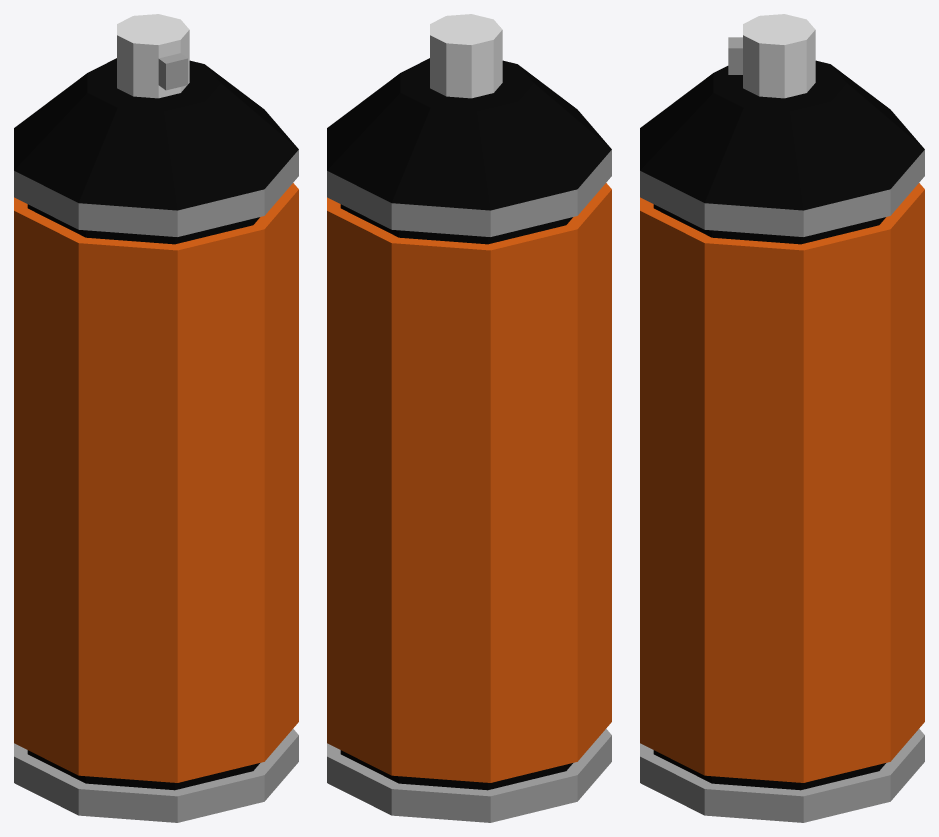
File: spraycan.fbx
3 renders of one model, left to right at view 1: azimuth 30°, elevation 25°; view 2: azimuth 150°, elevation 25°; view 3: azimuth 270°, elevation 25°, orthographic.
Visible parts, largest first — view 1: Circle.003, Circle.006, Circle.001, Circle.005, Circle.007, Circle.004, Circle.008; view 2: Circle.003, Circle.006, Circle.001, Circle.005, Circle.007, Circle.004; view 3: Circle.003, Circle.006, Circle.001, Circle.005, Circle.007, Circle.004, Circle.008.
Part boxes in pixels (x1=…): Circle.003: x1=14, y1=183, x2=298, y2=782; Circle.006: x1=14, y1=58, x2=298, y2=210; Circle.001: x1=14, y1=729, x2=298, y2=822; Circle.005: x1=14, y1=150, x2=298, y2=236; Circle.007: x1=117, y1=14, x2=189, y2=98; Circle.004: x1=27, y1=204, x2=259, y2=790; Circle.008: x1=158, y1=53, x2=187, y2=90; Circle.003: x1=327, y1=183, x2=611, y2=782; Circle.006: x1=327, y1=58, x2=611, y2=210; Circle.001: x1=327, y1=729, x2=611, y2=822; Circle.005: x1=327, y1=150, x2=611, y2=236; Circle.007: x1=430, y1=14, x2=502, y2=98; Circle.004: x1=340, y1=204, x2=572, y2=790; Circle.003: x1=640, y1=183, x2=924, y2=782; Circle.006: x1=640, y1=60, x2=924, y2=210; Circle.001: x1=640, y1=729, x2=924, y2=822; Circle.005: x1=640, y1=150, x2=924, y2=236; Circle.007: x1=743, y1=14, x2=815, y2=98; Circle.004: x1=653, y1=204, x2=885, y2=790; Circle.008: x1=728, y1=37, x2=742, y2=74.
Size of what is drawn, in the model's own units: 197 by 550 by 194.
